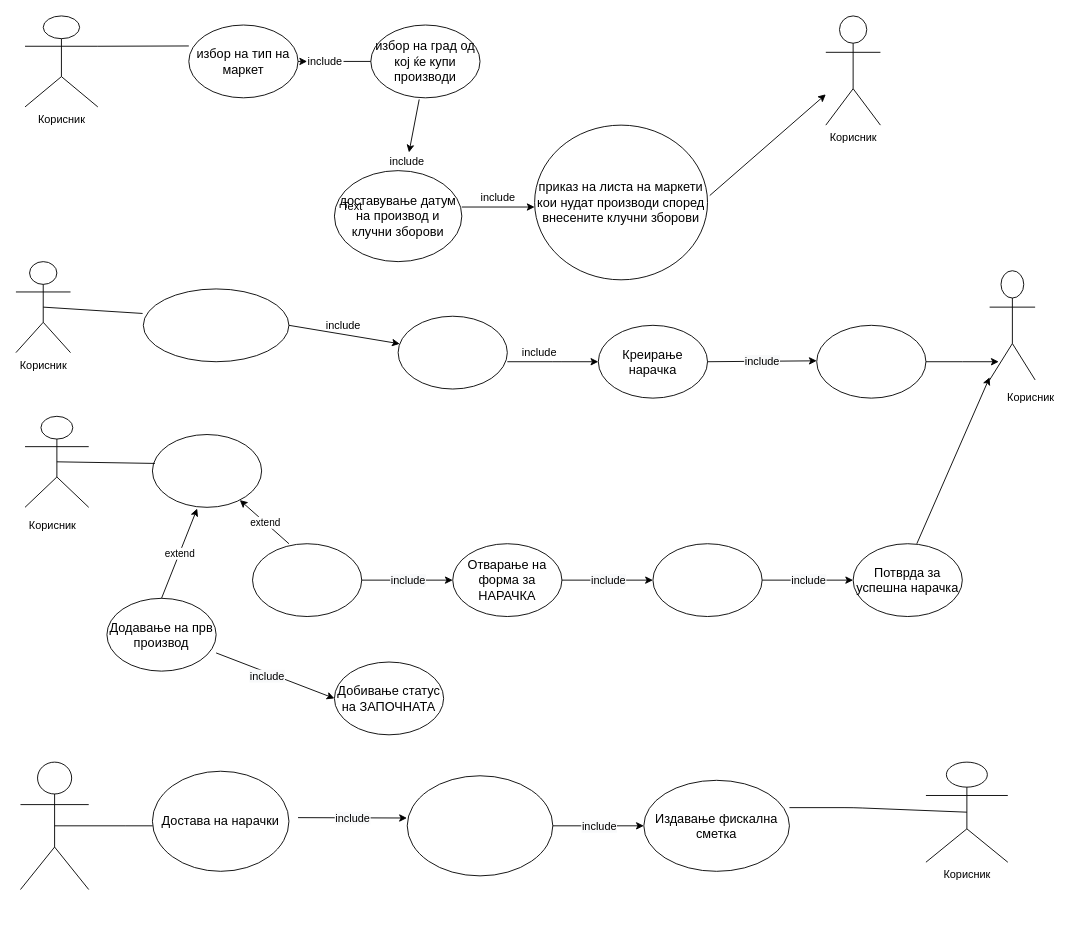
The diagram is 1078 pixels wide and 925 high, and some of its shapes have lost their labels. The centre of each missing label's shape, as x and y in pixels:
"Вработен" belongs at pixel 54 825.
"Додавање во кошничка" belongs at pixel 871 361.
"Додавање на прозводи" belongs at pixel 207 470.
"Додавање на сите производи" belongs at pixel 307 580.
"Избор на маркет од листа" belongs at pixel 215 325.
"Наплата на нарачки" belongs at pixel 479 825.
"Потврда на нарачката" belongs at pixel 707 580.
"Приказ на детали" belongs at pixel 452 352.
